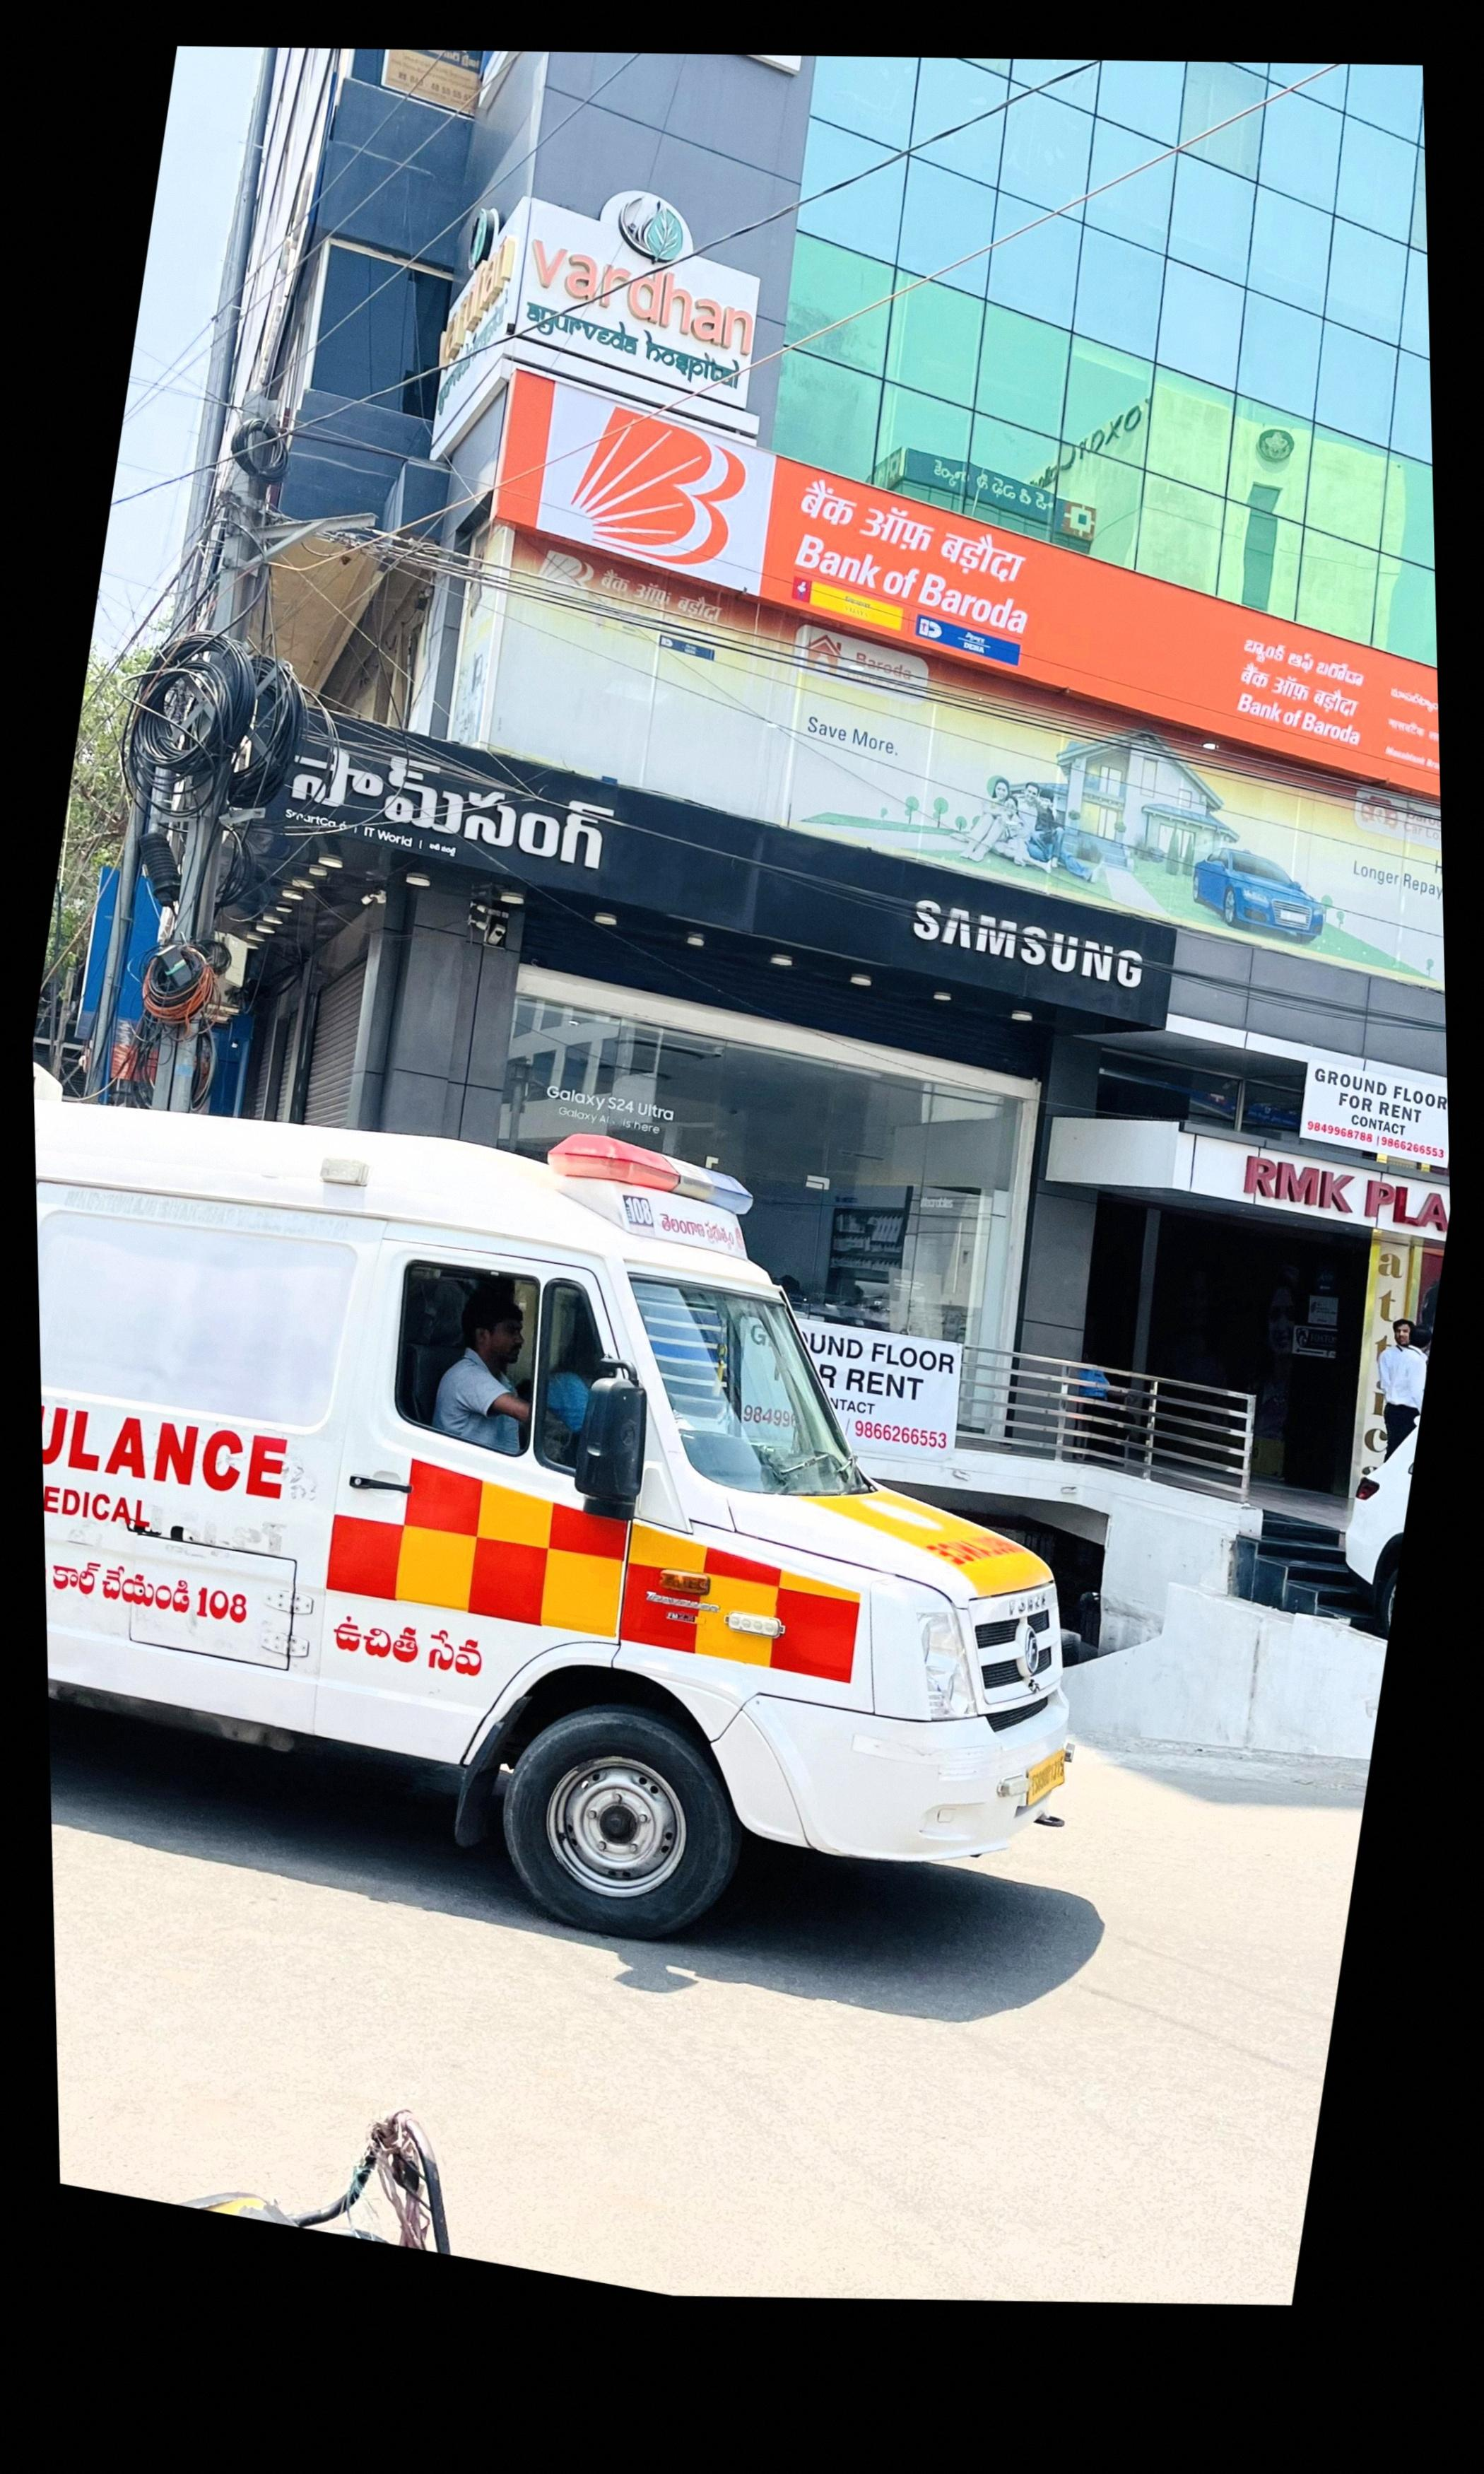ambulance: (34, 1089, 1074, 1949)
